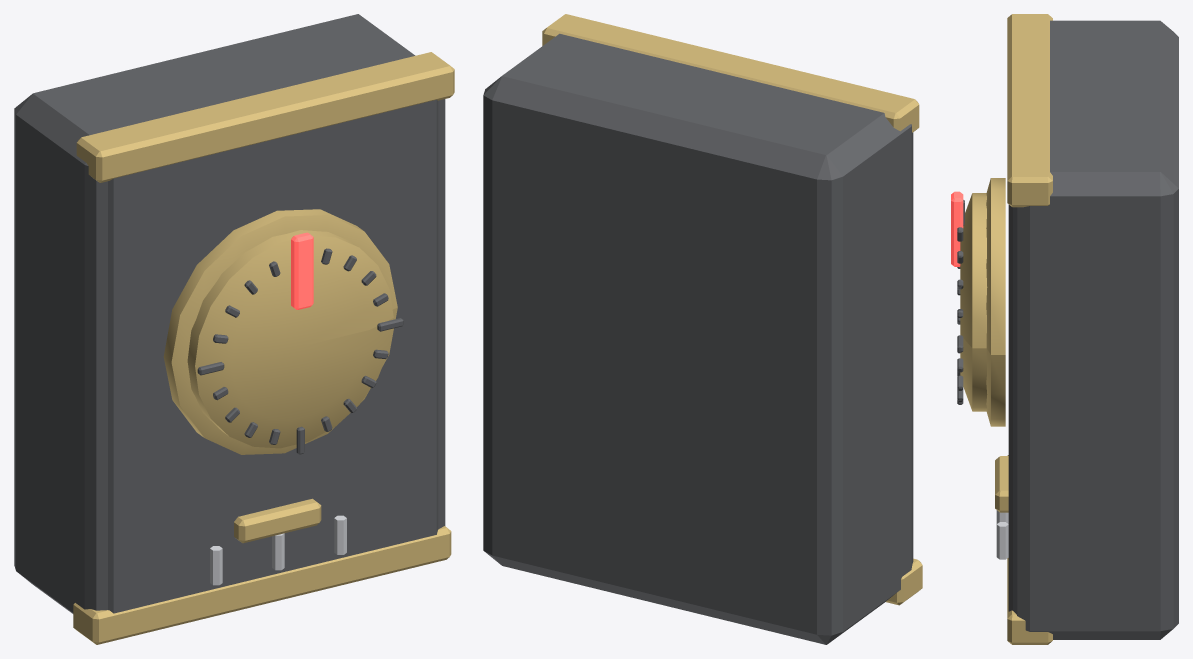
Rendered from escape-room-and-puzzle-venue-key-safe-with-dial-19d64a6b__35785.glb.
The picture shows the model from 3 angles, left to right: view 1: azimuth 30°, elevation 25°; view 2: azimuth 150°, elevation 25°; view 3: azimuth 270°, elevation 25°; orthographic projection. The views are drawn at different scales.
Visible parts, largest first — view 1: key-safe-with-dial, dial/brass, dial/dark, dial/signal; view 2: key-safe-with-dial; view 3: key-safe-with-dial, dial/brass, dial/dark, dial/signal.
Boxes of the visible parts, x1=… form: key-safe-with-dial: x1=14, y1=14, x2=454, y2=644; dial/brass: x1=187, y1=230, x2=393, y2=448; dial/dark: x1=197, y1=248, x2=403, y2=454; dial/signal: x1=291, y1=232, x2=313, y2=309; key-safe-with-dial: x1=483, y1=14, x2=922, y2=644; key-safe-with-dial: x1=986, y1=14, x2=1178, y2=644; dial/brass: x1=960, y1=193, x2=987, y2=411; dial/dark: x1=957, y1=200, x2=964, y2=404; dial/signal: x1=951, y1=191, x2=963, y2=266.
Bounding box in the file's own units: 0.2624 × 0.3412 × 0.15.
